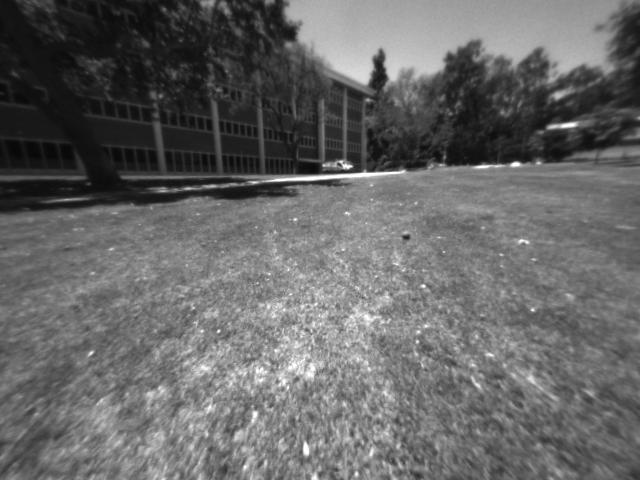dogtoy: (393, 223, 417, 245)
